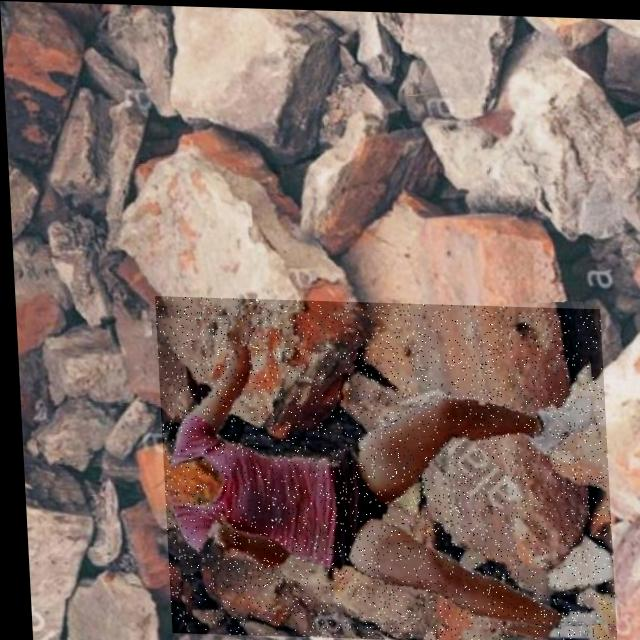Person in Rubble: (152, 294, 611, 640)
